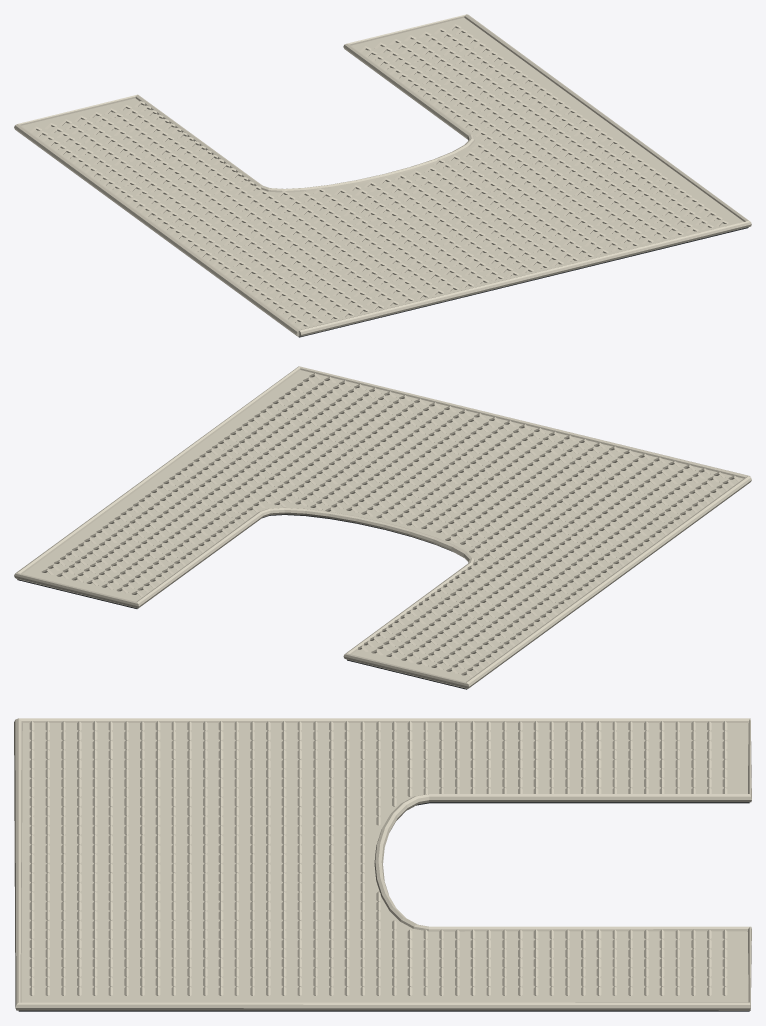
Rendered from apartment-mat-toilet.glb.
The picture shows the model from 3 angles, top to bottom: view 1: azimuth 30°, elevation 25°; view 2: azimuth 150°, elevation 25°; view 3: azimuth 270°, elevation 25°; orthographic projection. The views are drawn at different scales.
Parts seen in each view (by area): view 1: apartment-mat-toilet authored assembly; view 2: apartment-mat-toilet authored assembly; view 3: apartment-mat-toilet authored assembly.
Boxes of the visible parts, x1,y1,x2,y2 form: apartment-mat-toilet authored assembly: [14, 14, 751, 337]; apartment-mat-toilet authored assembly: [14, 366, 751, 689]; apartment-mat-toilet authored assembly: [14, 718, 751, 1011].
Bounding box in the file's own units: 0.6 × 0.012 × 0.65.
